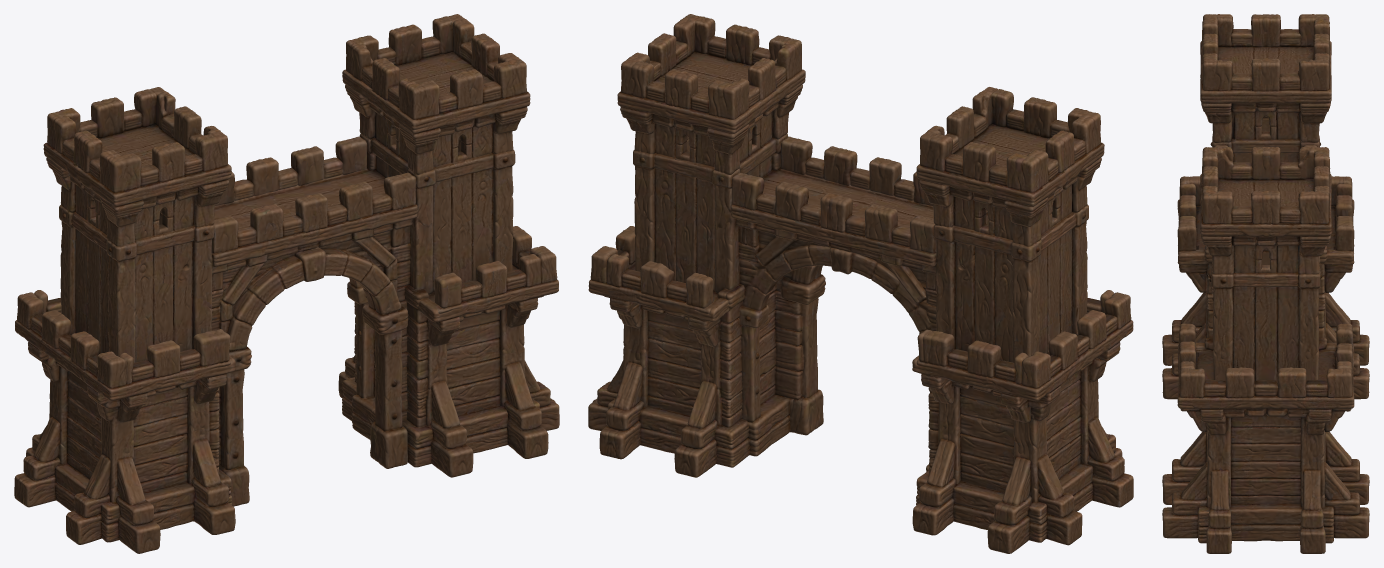
Rendered from gate_large.glb.
3 renders of one model, left to right at view 1: azimuth 30°, elevation 25°; view 2: azimuth 150°, elevation 25°; view 3: azimuth 270°, elevation 25°, orthographic. The views are drawn at different scales.
Bounding box in the file's own units: 1.9 × 1.42 × 0.7756.
Materials: 1 (1 with a texture image).
